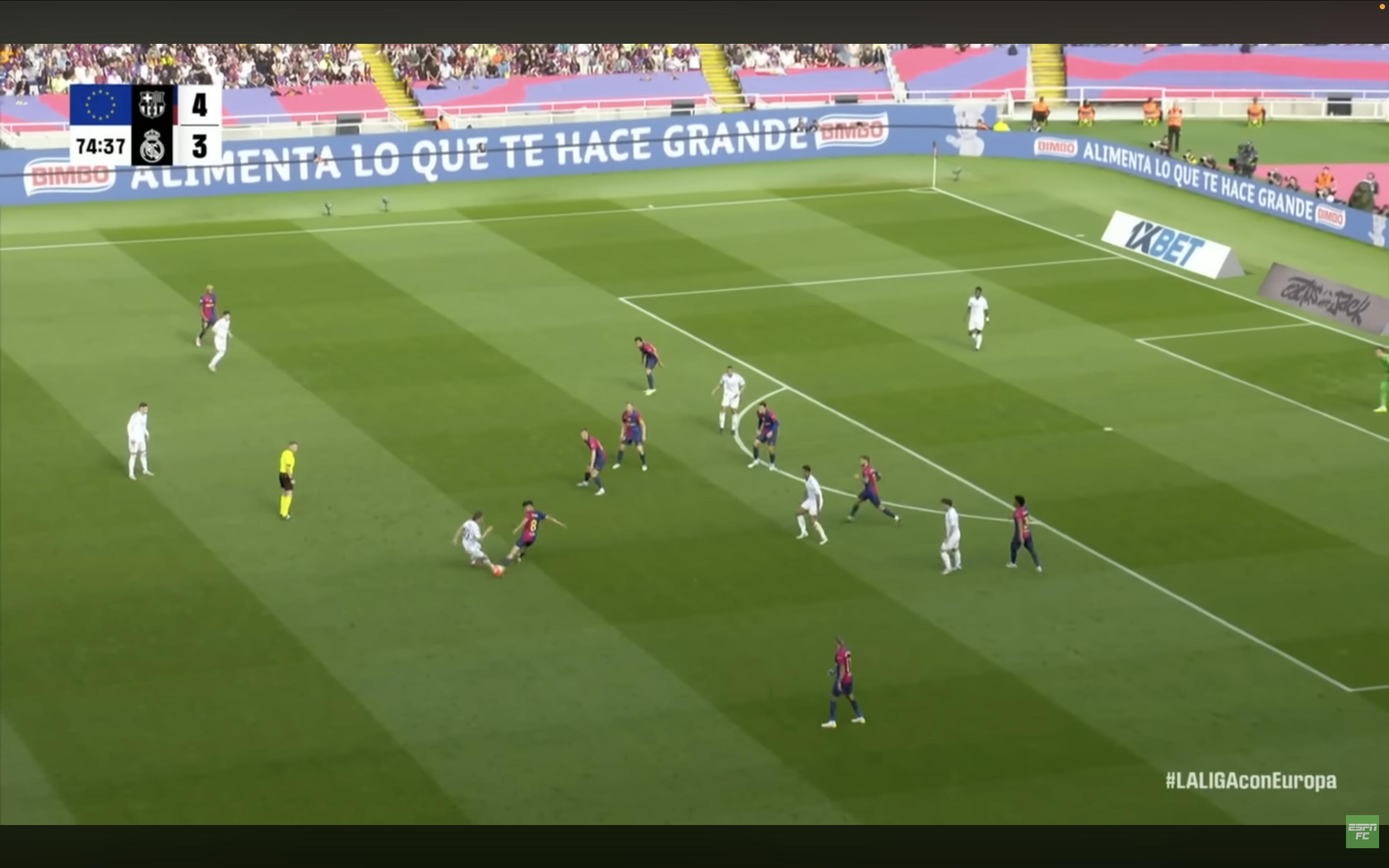ball: (492, 564, 505, 576)
goalkeeper: (1375, 348, 1389, 413)
player: (503, 501, 565, 566), (822, 637, 866, 728), (847, 455, 899, 522), (451, 511, 501, 577), (1006, 495, 1042, 572), (796, 465, 827, 544), (711, 366, 746, 432), (614, 403, 647, 471), (748, 402, 779, 470), (127, 402, 153, 480), (578, 429, 605, 495), (635, 336, 663, 396), (940, 498, 962, 574), (208, 311, 233, 372), (967, 287, 989, 349), (195, 285, 217, 346)
referee: (278, 441, 298, 519)
